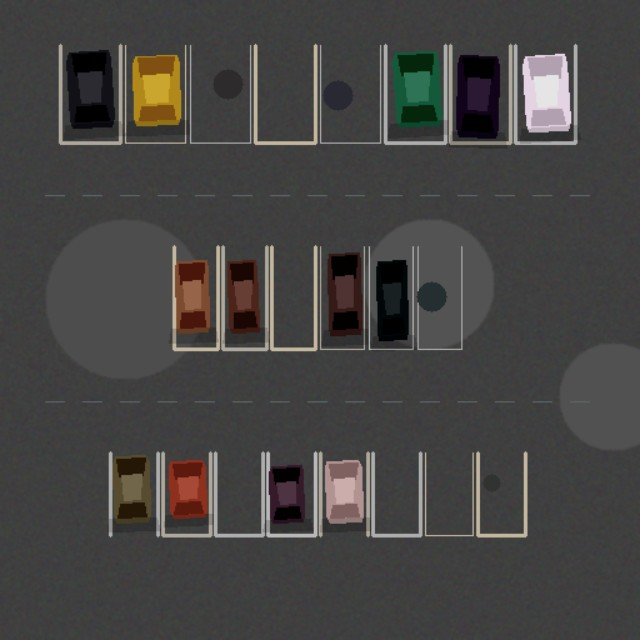space-empty: (190, 45, 250, 142), (255, 45, 315, 142), (320, 45, 380, 142), (271, 246, 315, 349), (417, 246, 461, 349), (215, 452, 263, 535), (425, 452, 473, 535), (477, 452, 525, 535), (373, 452, 420, 535)
space-occupied: (60, 45, 120, 142), (125, 45, 185, 142), (385, 45, 445, 142), (450, 45, 510, 142), (515, 45, 575, 142), (320, 246, 364, 349), (369, 246, 413, 349), (174, 246, 217, 349), (223, 246, 266, 349), (267, 452, 315, 535), (110, 452, 157, 535), (163, 452, 210, 535), (320, 452, 367, 535)
